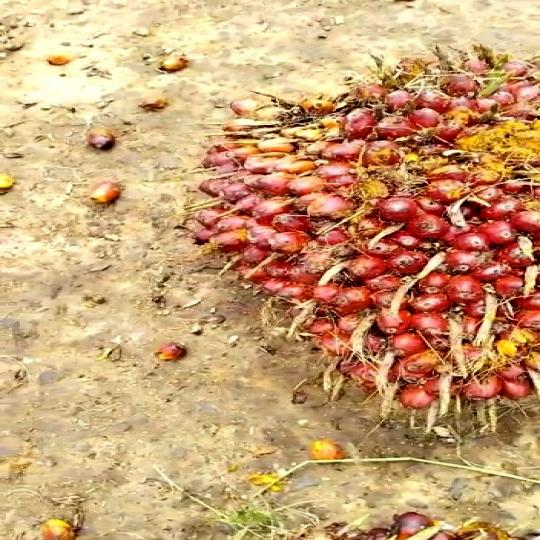kurang masak: (165, 40, 540, 441)
